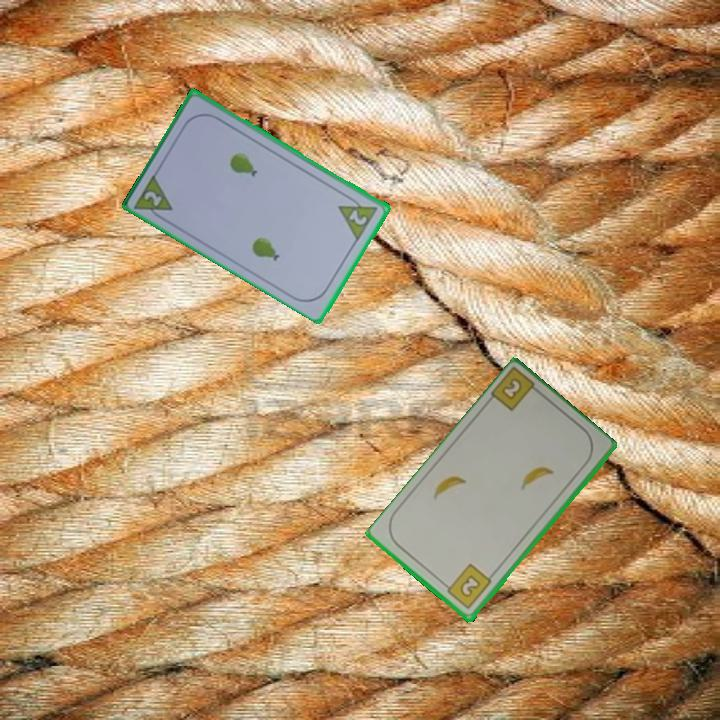2b: (487, 366, 545, 415), (440, 561, 495, 612)
2p: (131, 170, 176, 225), (335, 190, 381, 243)
